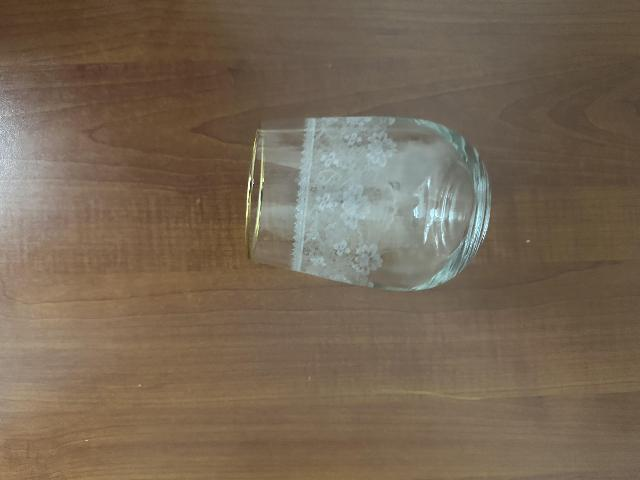Cam: (243, 111, 495, 294)
